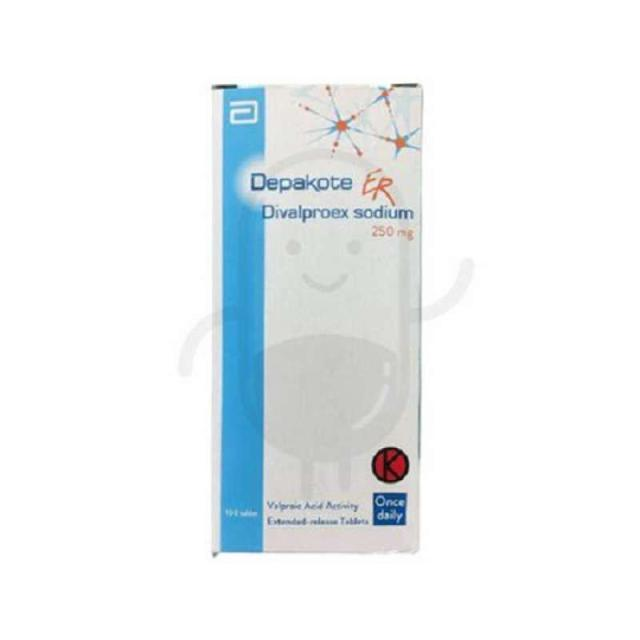drug-name: (248, 167, 402, 205)
